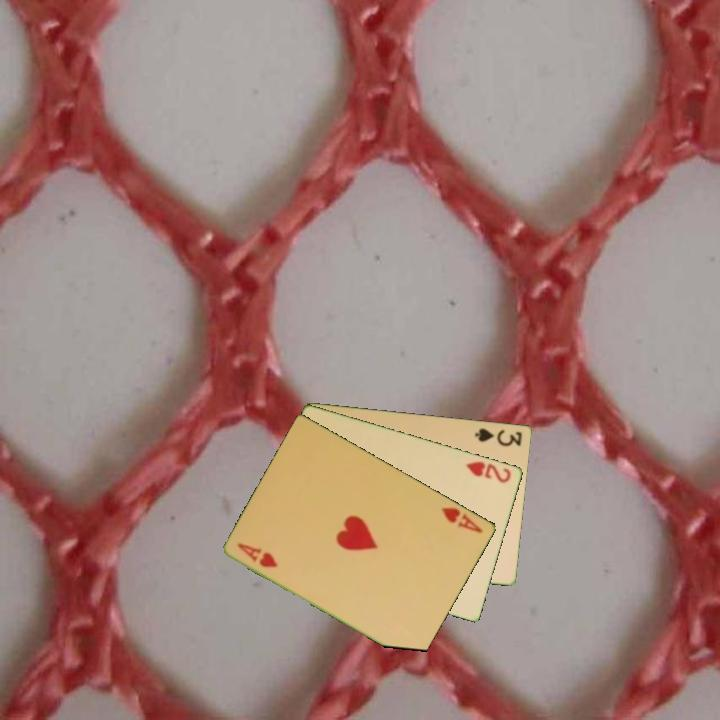2h: (463, 457, 514, 486)
3s: (472, 424, 525, 449)
Ah: (438, 504, 486, 536), (234, 540, 281, 571)
